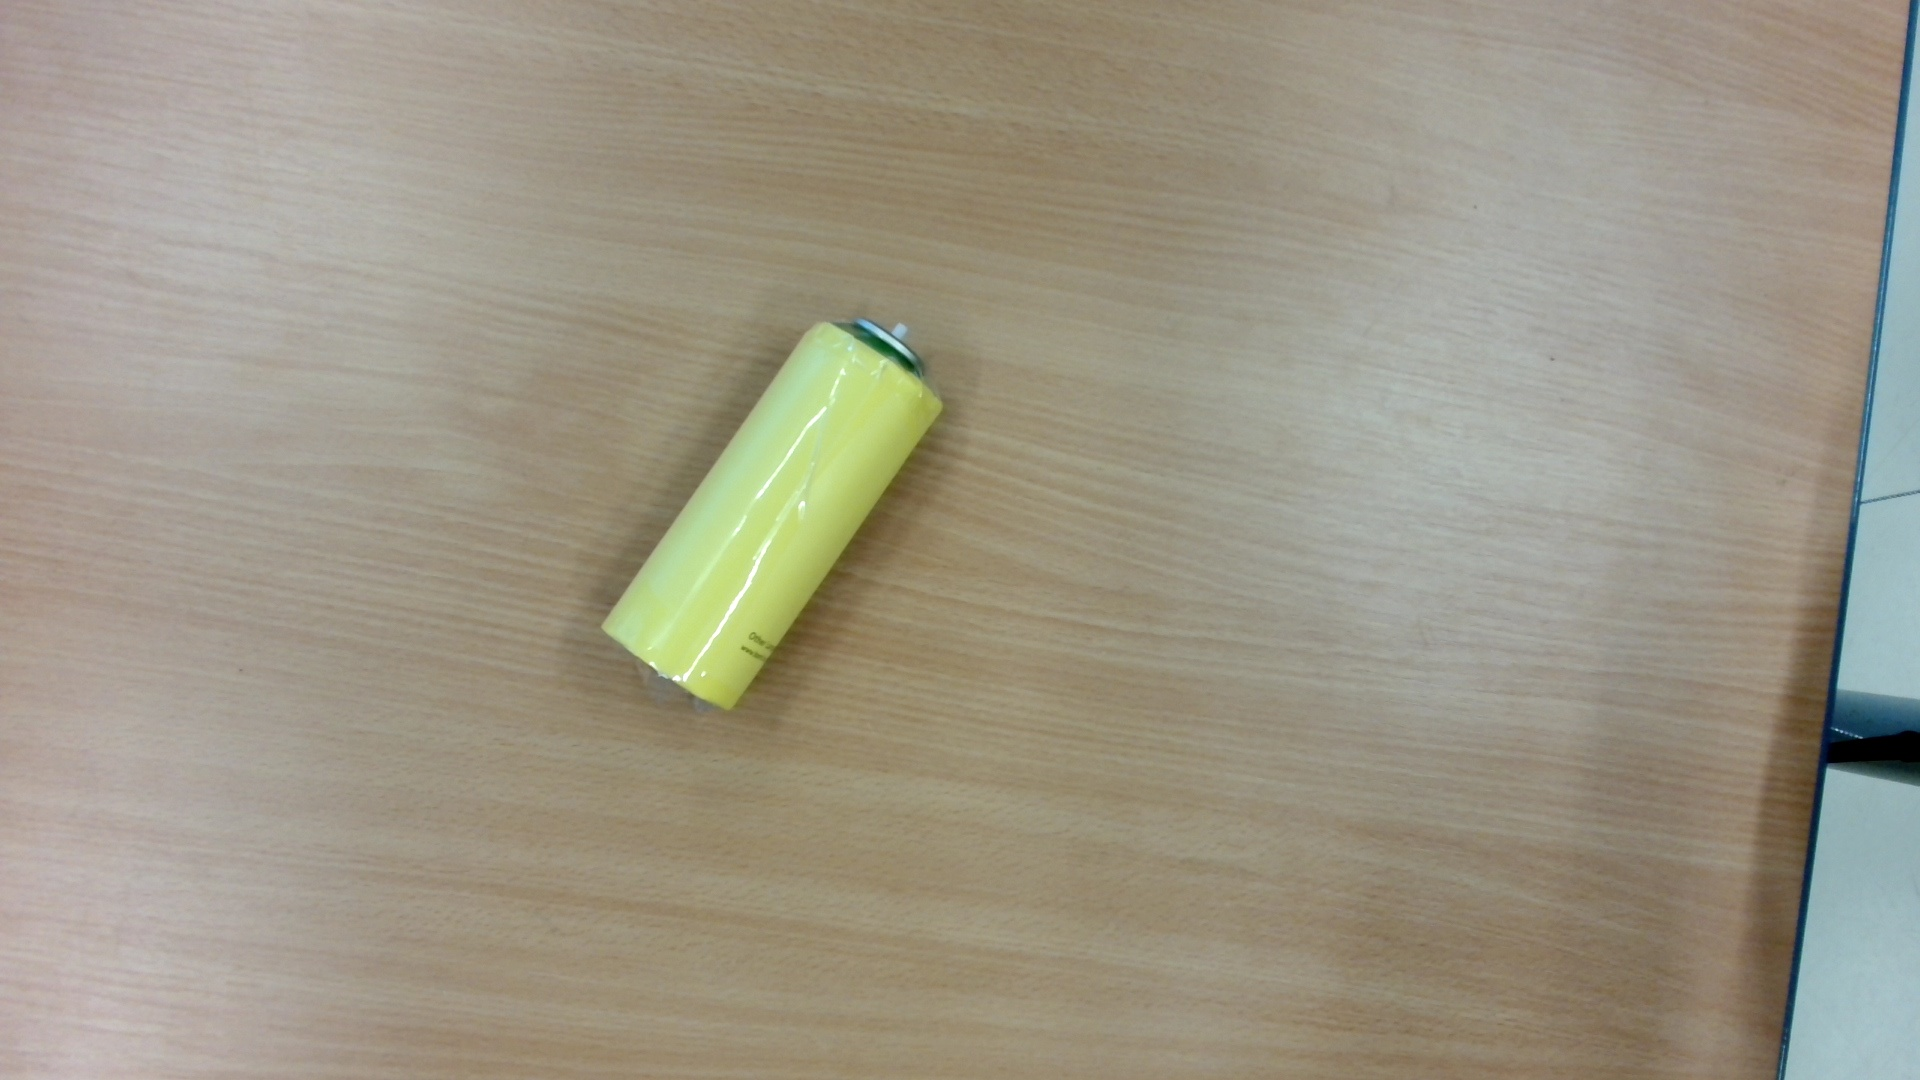Cylinder: (589, 299, 963, 728)
